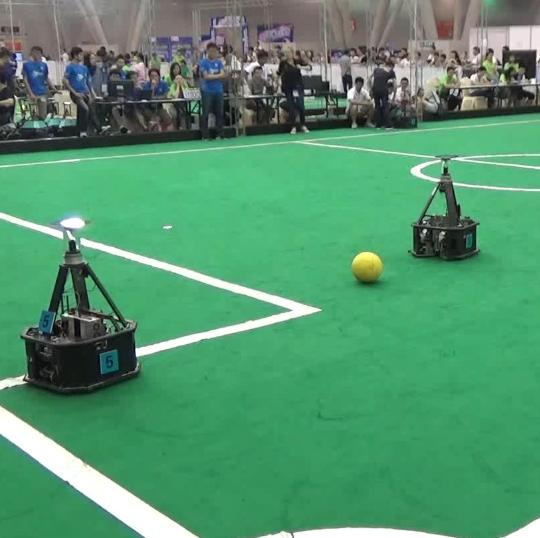robot: (17, 212, 145, 396), (406, 153, 485, 264)
